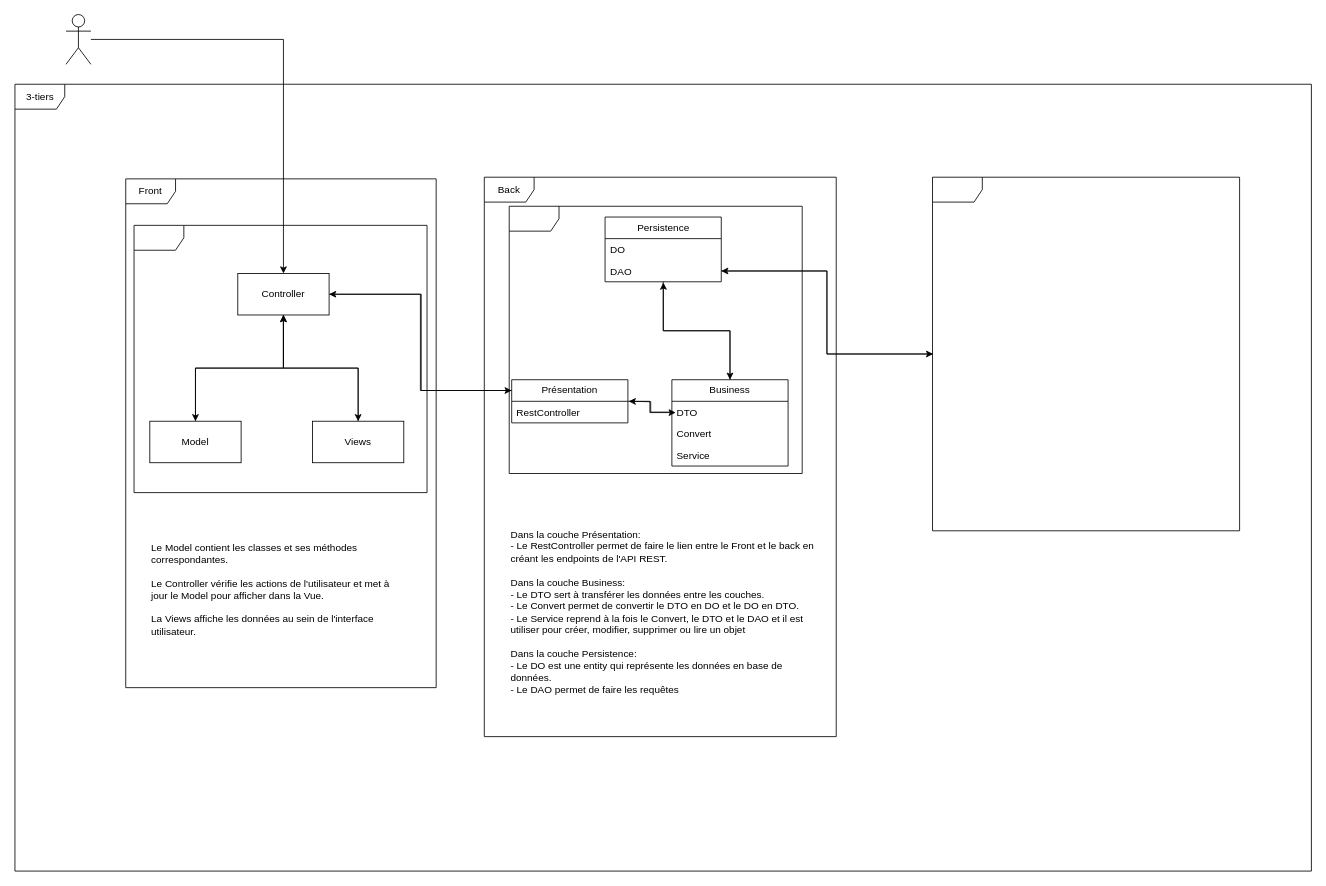
This 1326x886 diagram has some shape labels left out. The box of each missing label's shape, as (x1, y1, x2, y2) in pixels:
BDD: (932, 176, 1240, 531)
n-tiers: (508, 205, 802, 474)
n-tiers MVC: (133, 225, 427, 493)
Utilisateur: (65, 14, 91, 64)
